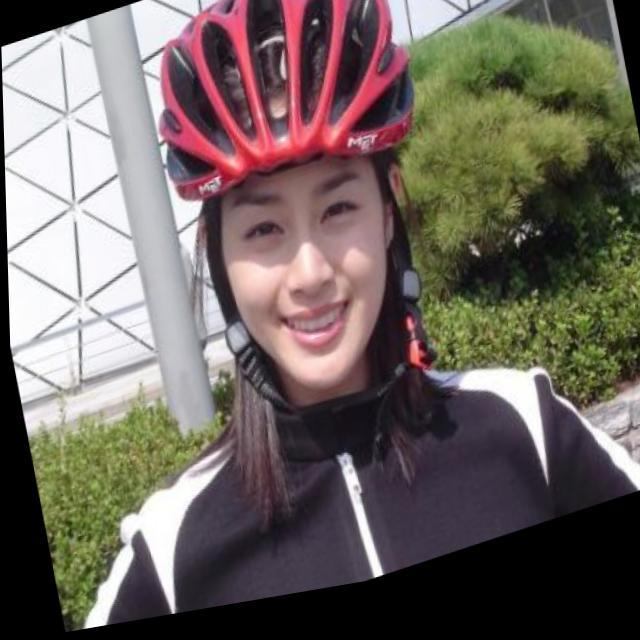Helmet: (154, 0, 416, 378)
